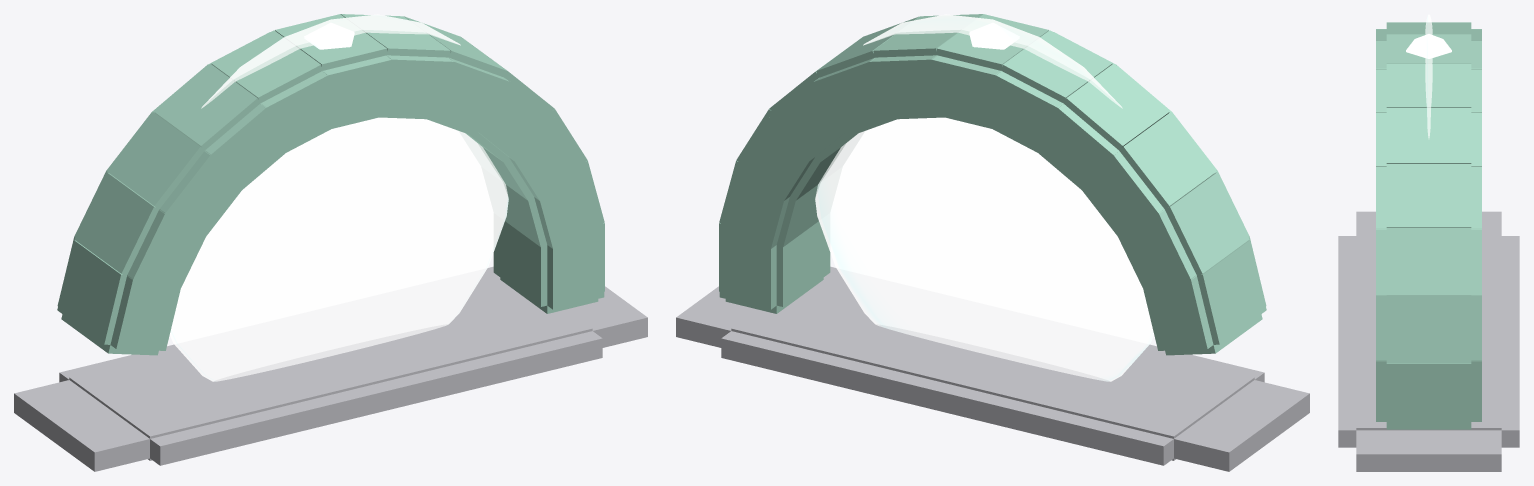
File: build_portal_enchanted.glb
3 renders of one model, left to right at view 1: azimuth 30°, elevation 25°; view 2: azimuth 150°, elevation 25°; view 3: azimuth 270°, elevation 25°, orthographic. The views are drawn at different scales.
Parts seen in each view (by area): view 1: box; view 2: box; view 3: box.
Part boxes in pixels (<box>): box: <box>14,14,647,471</box>; box: <box>676,14,1309,471</box>; box: <box>1338,14,1519,471</box>.
Bounding box in the file's own units: 3.8 × 2.5 × 1.2.
